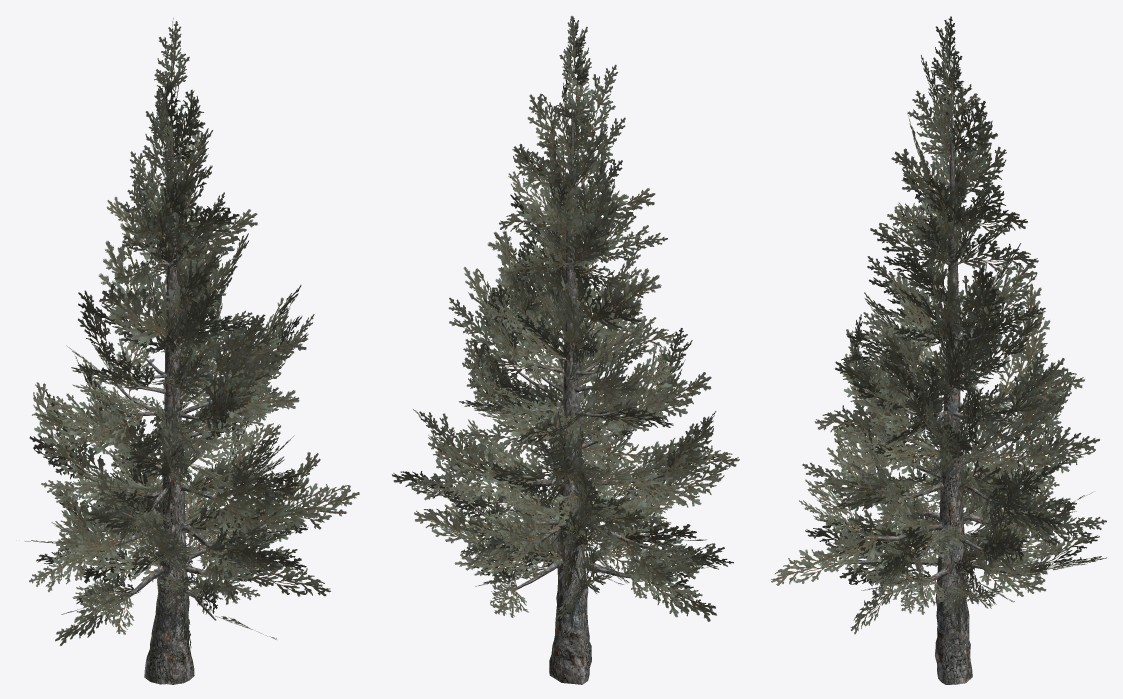
File: SM_Spruce.fbx
The picture shows the model from 3 angles, left to right: view 1: azimuth 30°, elevation 25°; view 2: azimuth 150°, elevation 25°; view 3: azimuth 270°, elevation 25°; orthographic projection.
Visible parts, largest first — view 1: Spruce_LOD0; view 2: Spruce_LOD0; view 3: Spruce_LOD0.
Part boxes in pixels (x1,y1,x2,y2): Spruce_LOD0: (25,18,359,684); Spruce_LOD0: (392,16,739,684); Spruce_LOD0: (771,16,1106,684).
Bounding box in the file's own units: 810 × 842 × 1742.
